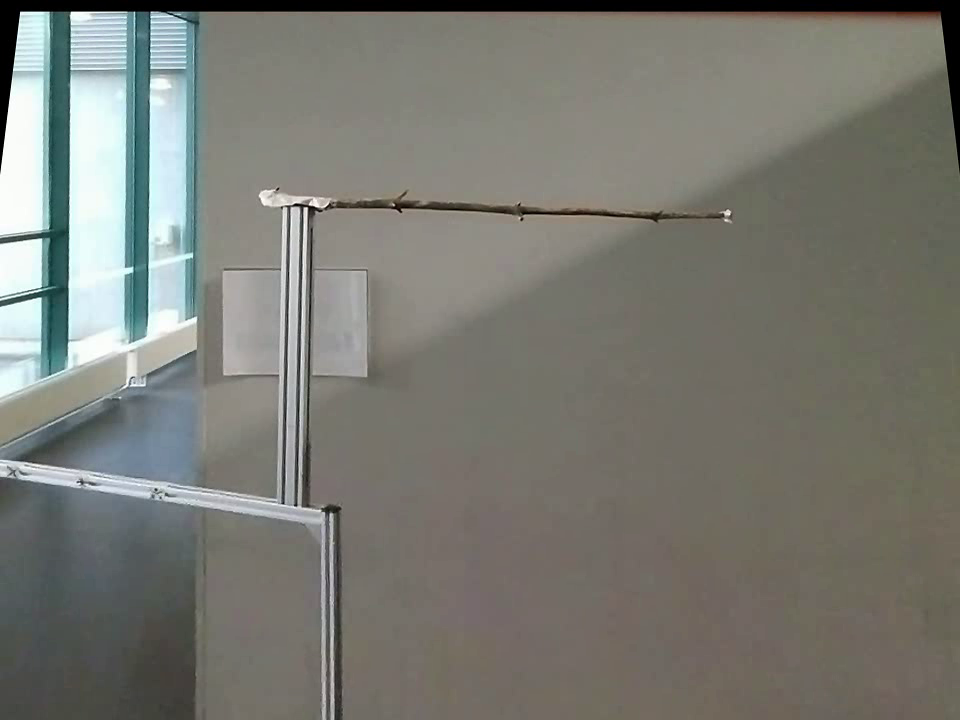aluminum_frame: (0, 456, 341, 526), (274, 210, 316, 507), (315, 497, 345, 718)
branch: (332, 185, 711, 231)
